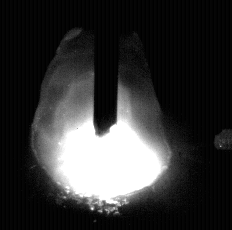arame: (94, 0, 119, 136)
poca: (31, 0, 166, 230)
